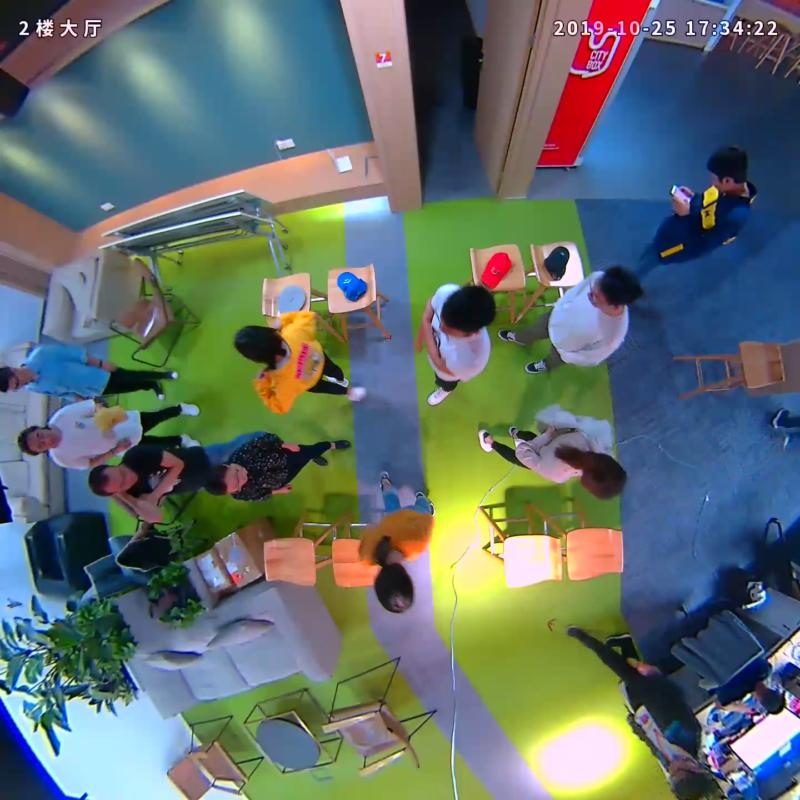head: (438, 286, 495, 338), (586, 265, 644, 308), (582, 452, 627, 500), (374, 563, 415, 614), (707, 145, 748, 193), (233, 323, 283, 361), (668, 755, 710, 800), (88, 463, 138, 495), (203, 464, 248, 497), (17, 424, 58, 458), (1, 367, 29, 393)
